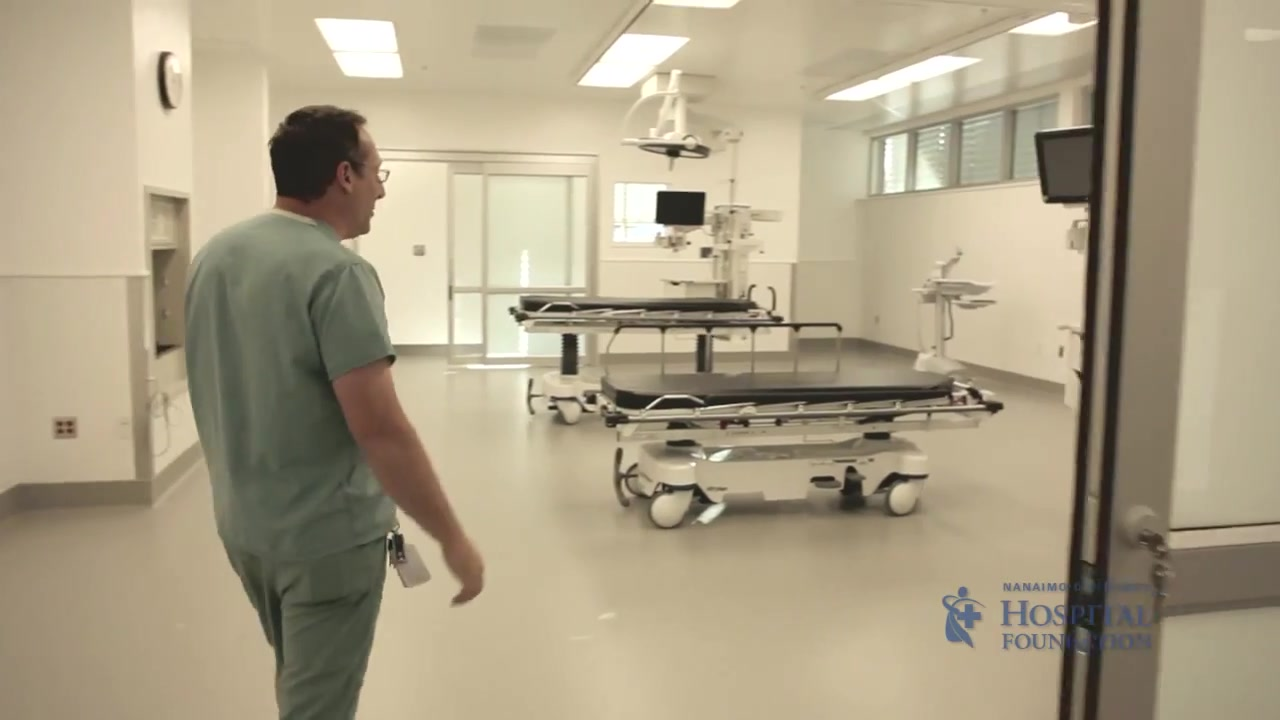bedrail: (606, 323, 843, 377)
bedside_monitor: (1035, 125, 1105, 207), (656, 190, 704, 226)
operating_bed: (596, 366, 1005, 524), (512, 286, 785, 422)
staff: (182, 106, 486, 720)
surgical_light: (635, 134, 711, 161)
